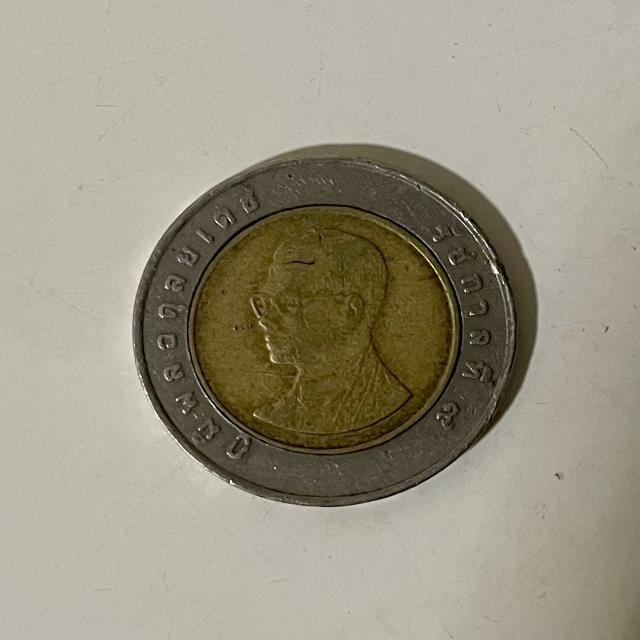10 Bath: (127, 148, 529, 519)
